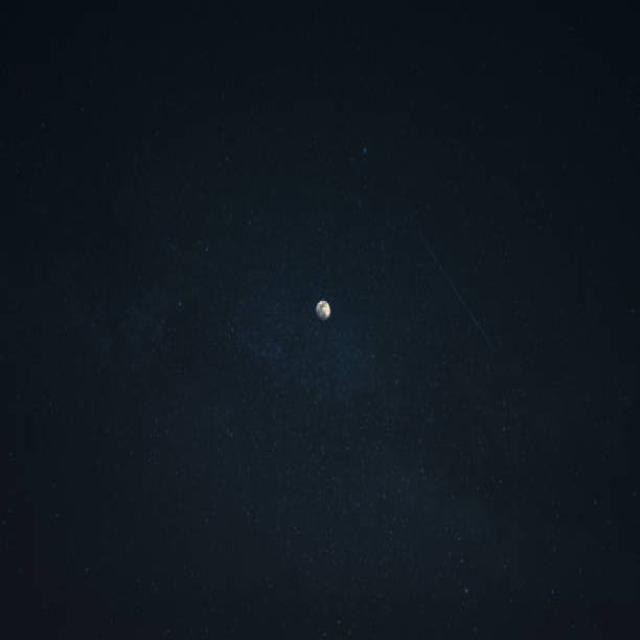moon: (310, 298, 331, 322)
